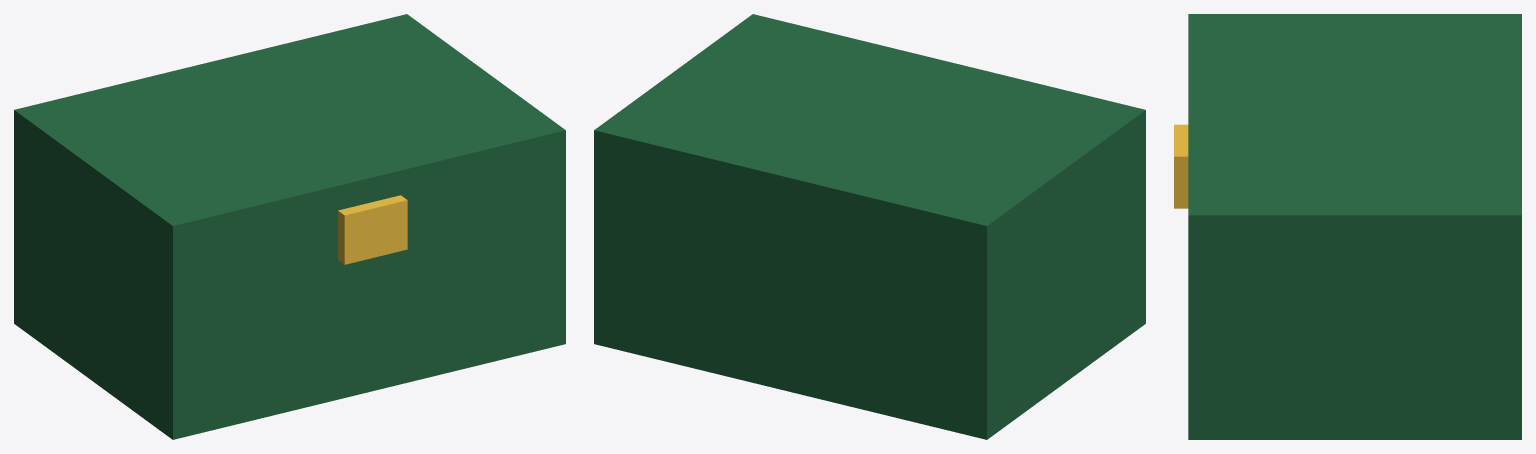
Rendered from cashbox.glb.
3 renders of one model, left to right at view 1: azimuth 30°, elevation 25°; view 2: azimuth 150°, elevation 25°; view 3: azimuth 270°, elevation 25°, orthographic. The views are drawn at different scales.
Visible parts, largest first — view 1: cashbox_0, cashbox_1; view 2: cashbox_0; view 3: cashbox_0, cashbox_1.
Boxes of the visible parts, bbox=[...] form: cashbox_0: bbox=[14, 14, 565, 439]; cashbox_1: bbox=[338, 195, 407, 264]; cashbox_0: bbox=[594, 14, 1145, 439]; cashbox_0: bbox=[1188, 14, 1521, 439]; cashbox_1: bbox=[1174, 124, 1188, 208].
Size of the model in its own units: 0.5 by 0.26 by 0.365.
2 materials, 2 textured.
